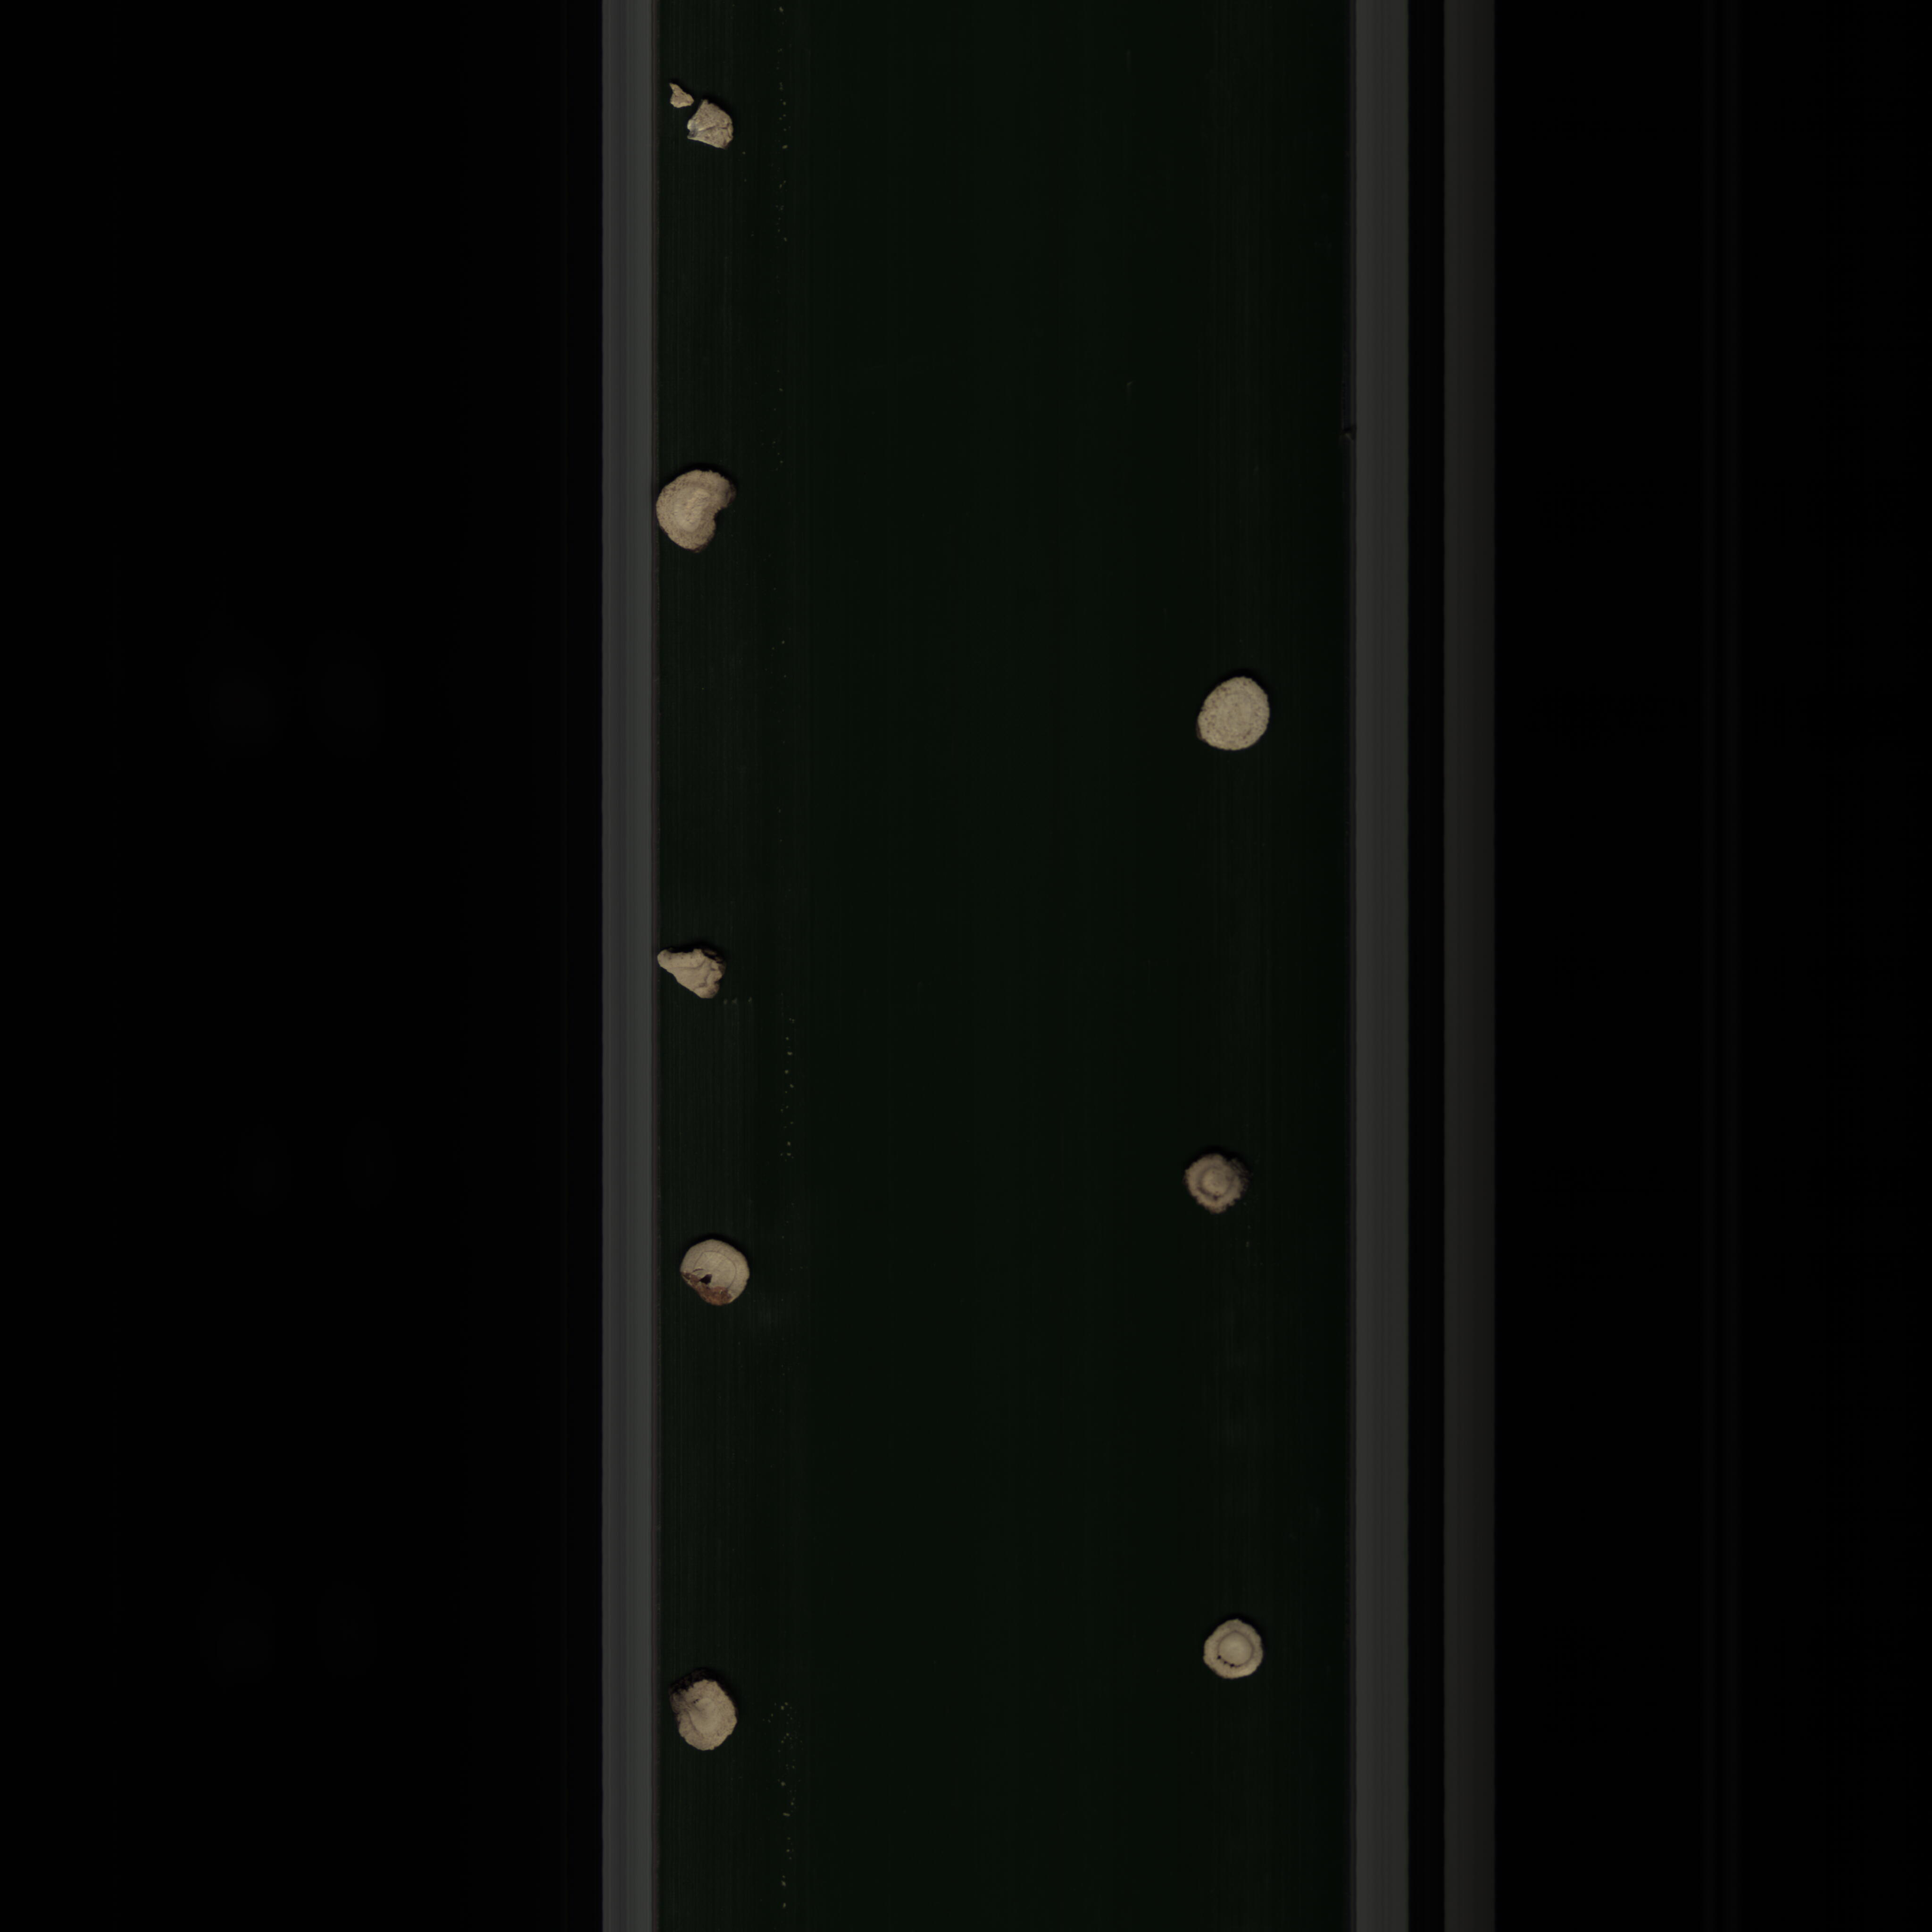debris: (649, 939, 731, 1010), (686, 97, 747, 156)
distortion: (653, 453, 740, 561)
hole: (1196, 1614, 1272, 1686)
moldy: (665, 1667, 745, 1760), (672, 1233, 755, 1311), (1180, 1152, 1258, 1219)
